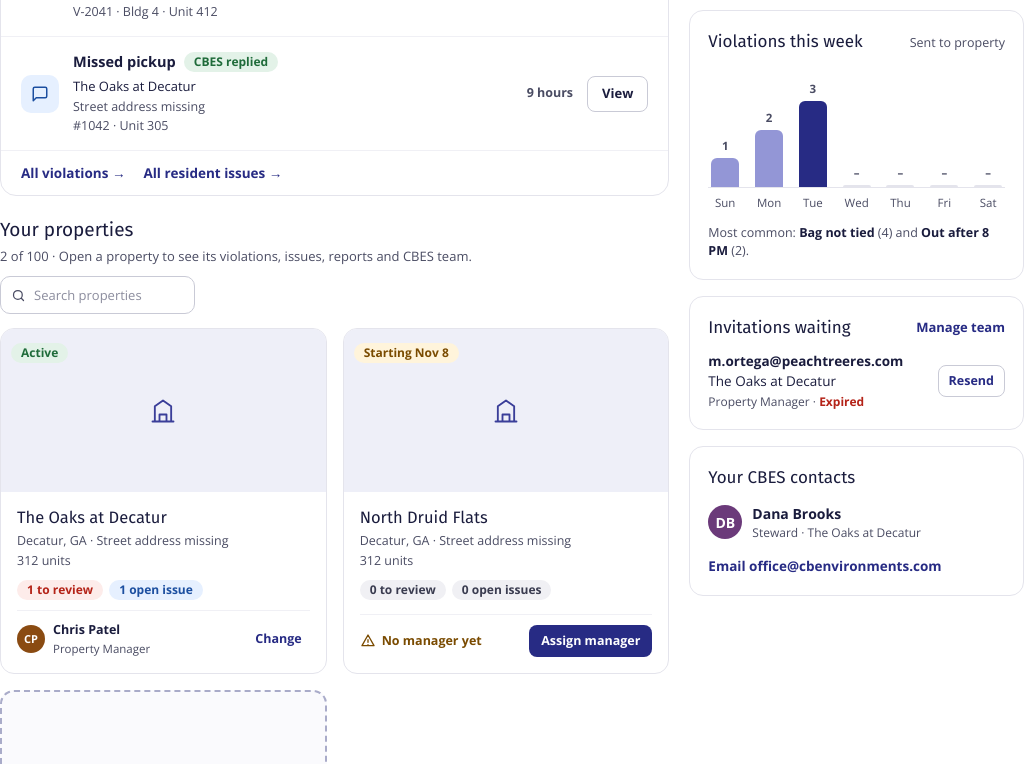
RepDashboardPage › resends an invitation
(page scrolled)
Click the button with aria-label "Resend the invitation to m.ortega@peachtreeres.com". click: (971, 381)
box: [938,365,1005,397]
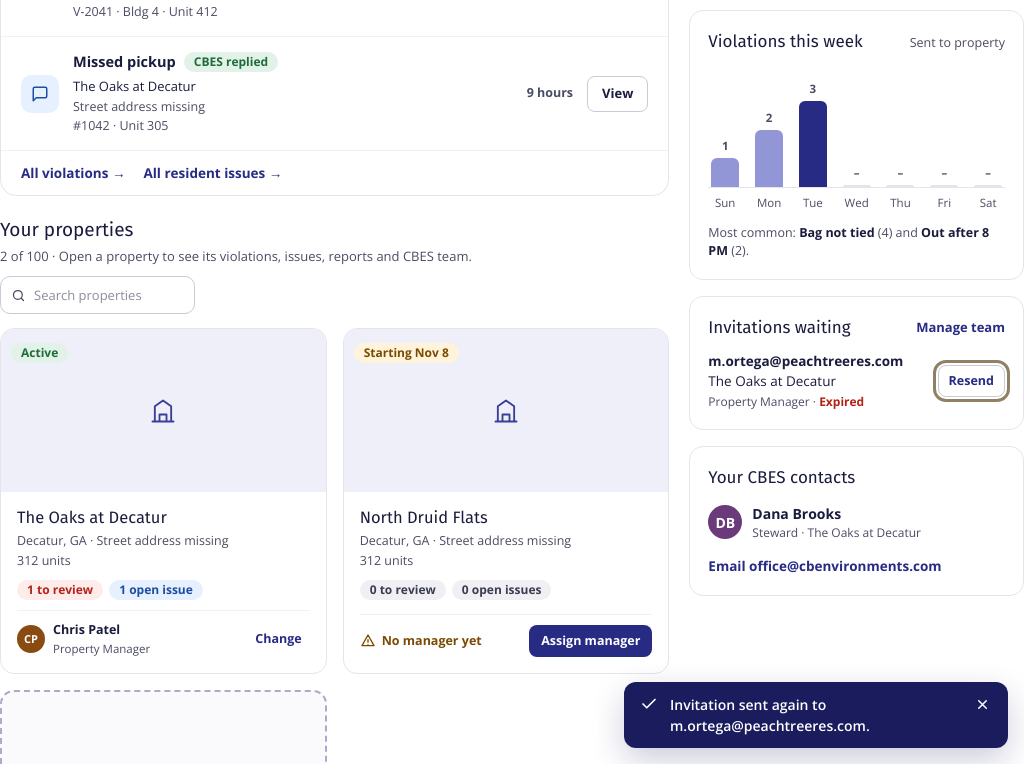
Expected: the text "Invitation sent again to m.ortega@peachtreeres.com." is shown, [670,695,870,735]
